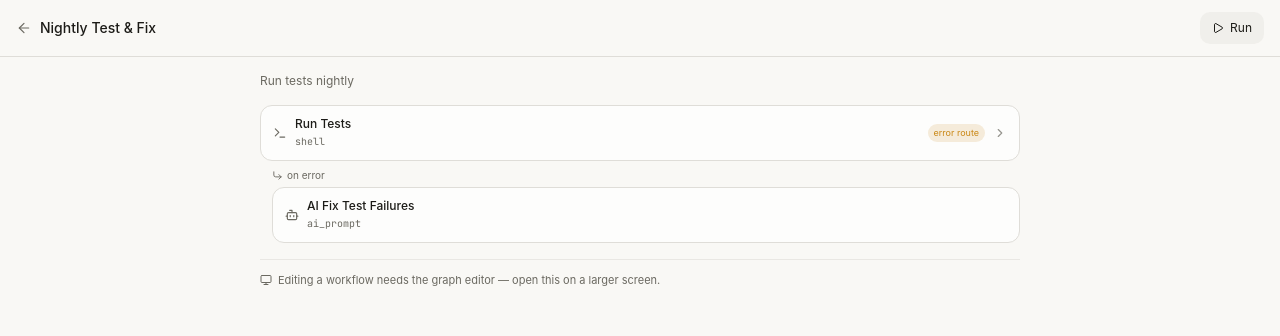
WorkflowMobileView › surfaces a failed run instead of silently doing nothing
Step 1. Click the button "Run" → (1232, 28), box [1200, 12, 1264, 44]
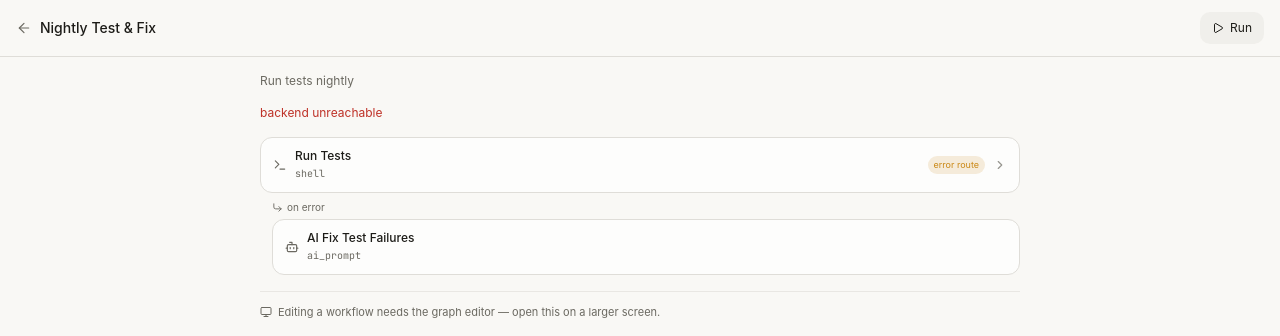
Now the text "backend unreachable" is shown, box [260, 105, 382, 120]
